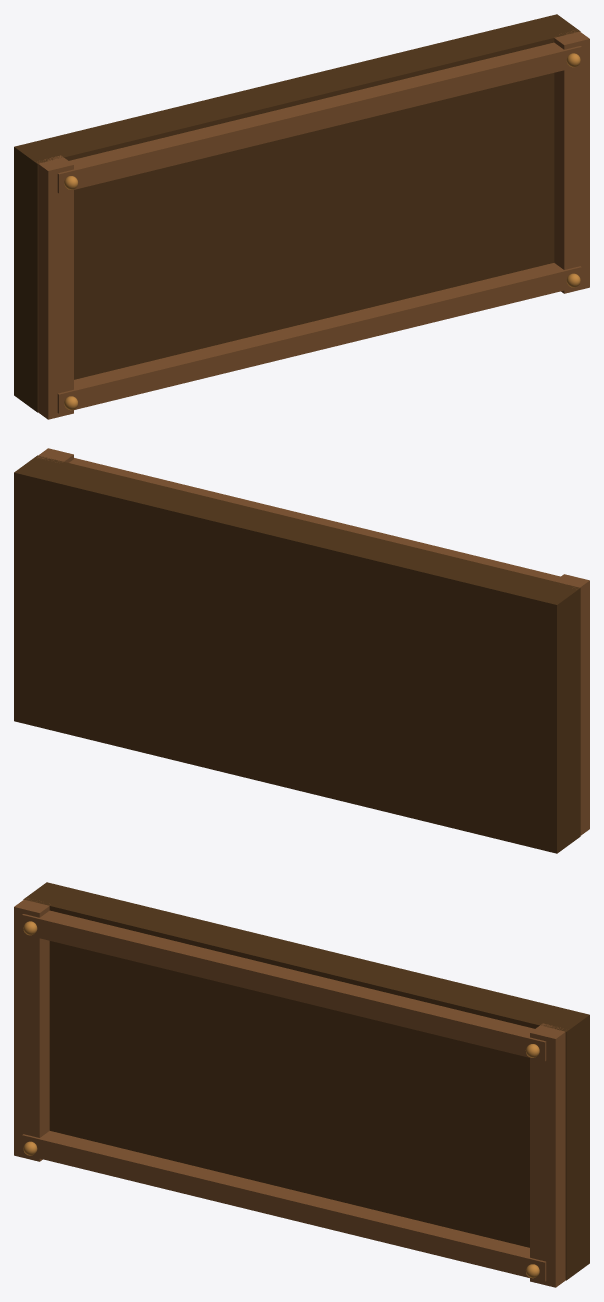
File: mia-duty_board.glb
3 views of the same model, one above another, from view 1: azimuth 30°, elevation 25°; view 2: azimuth 150°, elevation 25°; view 3: azimuth 330°, elevation 25° (orthographic).
Parts seen in each view (by area): view 1: Body_wood, Body_oak, Body_brass; view 2: Body_wood, Body_oak; view 3: Body_wood, Body_oak, Body_brass.
Boxes of the visible parts, x1,y1,x2,y2 form: Body_wood: (14, 14, 580, 412); Body_oak: (37, 30, 589, 419); Body_brass: (64, 53, 580, 410); Body_wood: (14, 455, 580, 853); Body_oak: (36, 448, 589, 835); Body_wood: (23, 882, 589, 1280); Body_oak: (14, 898, 565, 1287); Body_brass: (23, 921, 539, 1278).
Bounding box in the file's own units: 0.8 × 0.35 × 0.103.
